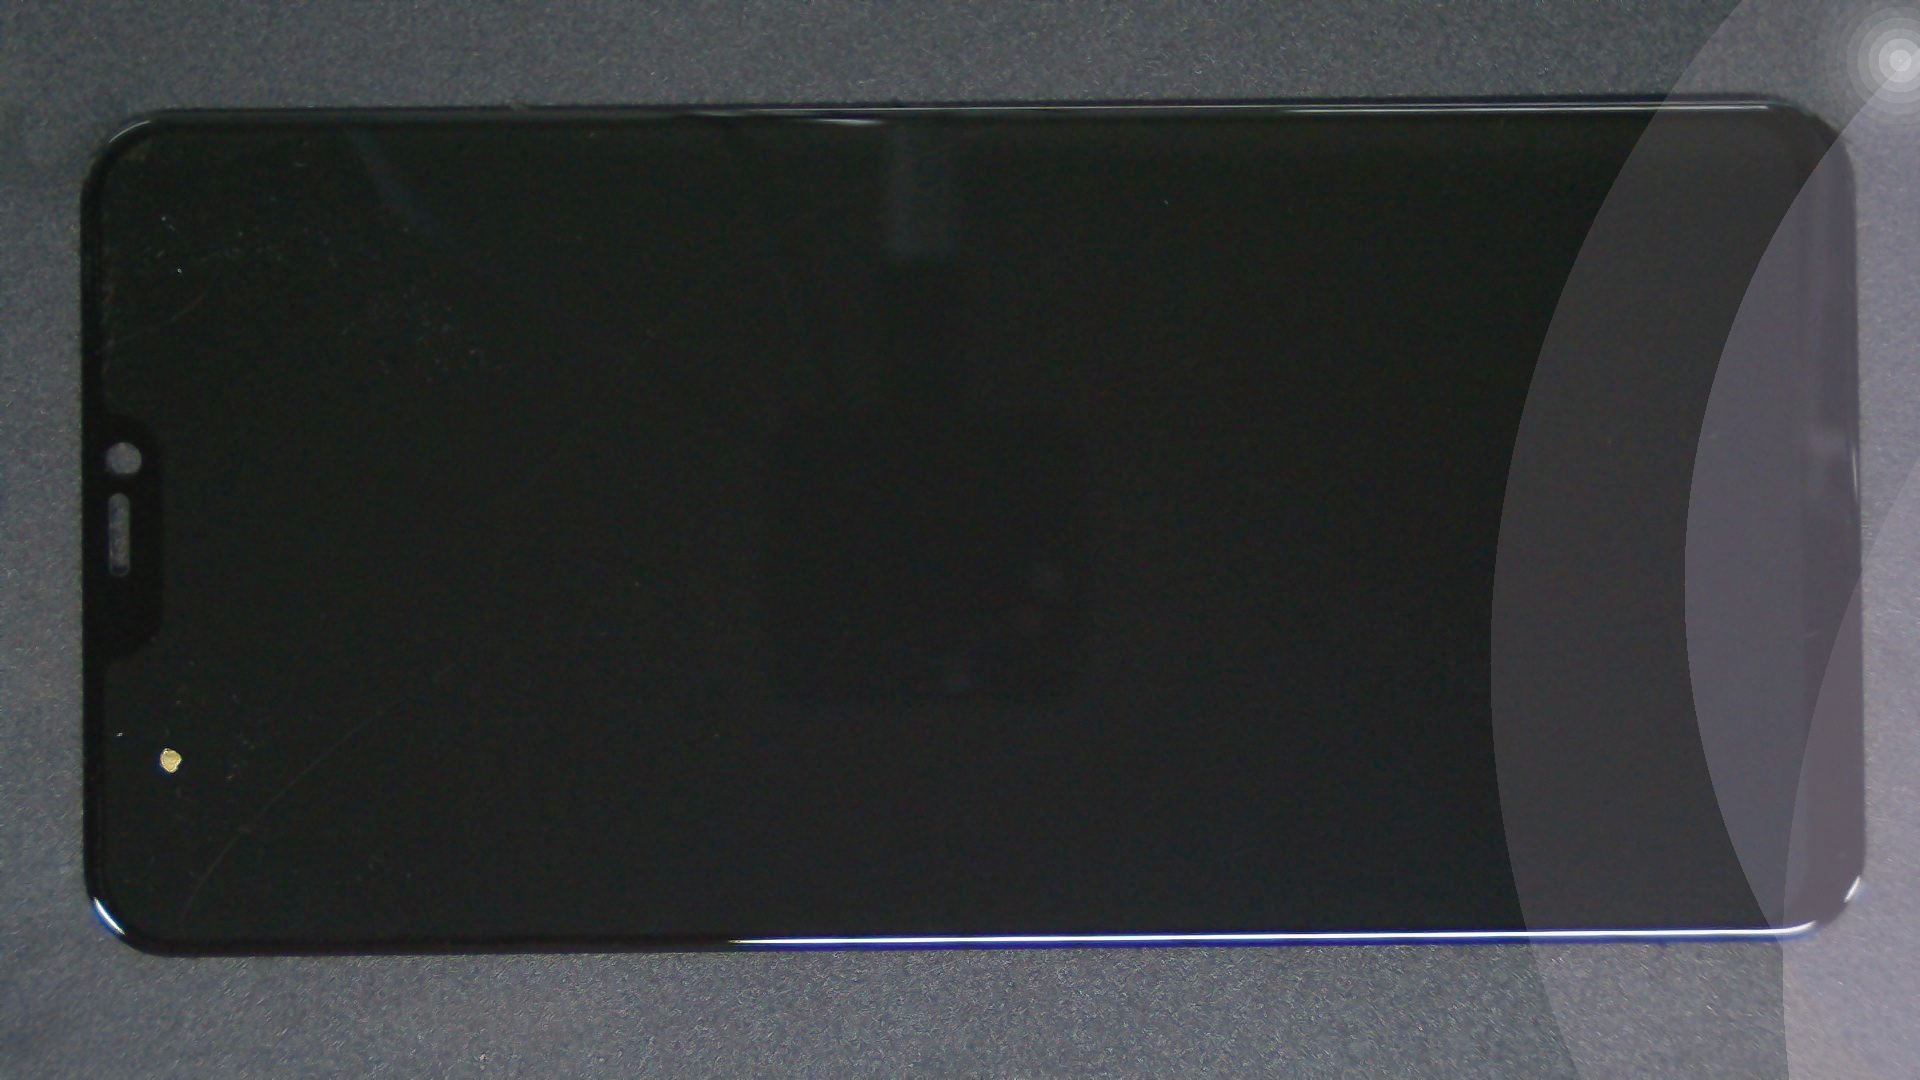oil: (84, 372, 248, 1080)
